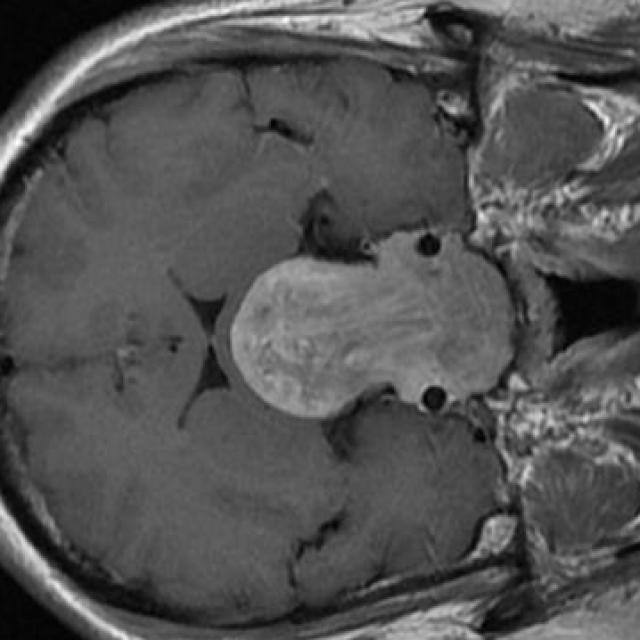pituitary: (232, 241, 513, 419)
